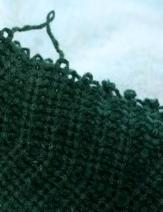snag: (4, 7, 73, 80)
